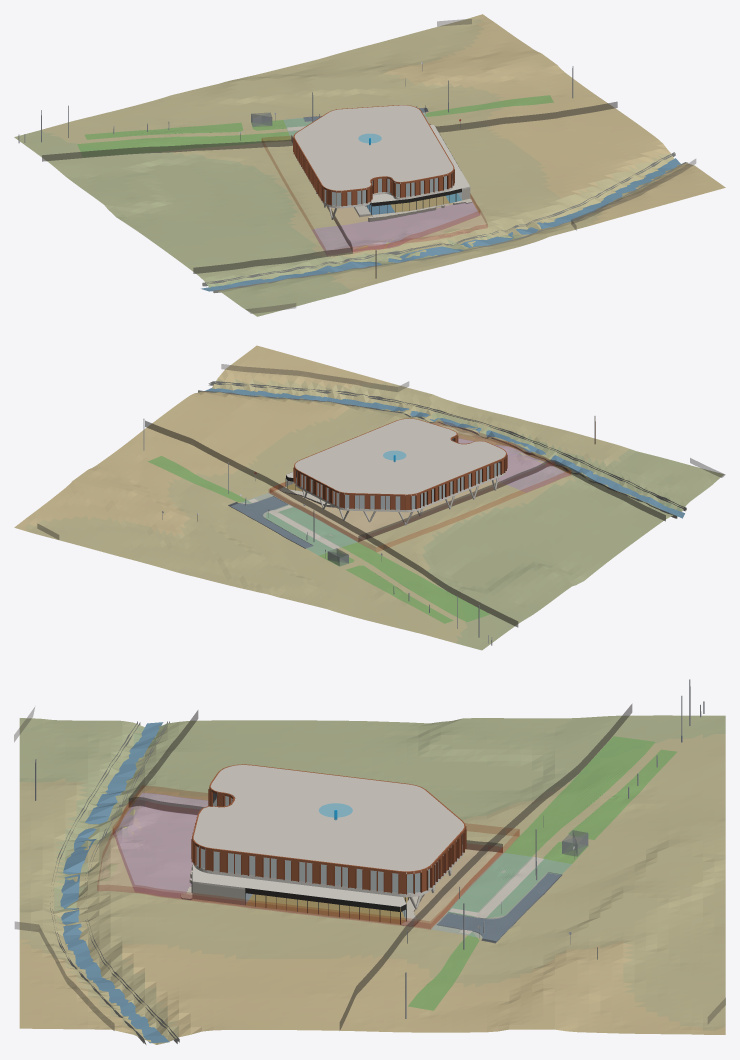
Rendered from maqueta.glb.
3 views of the same model, one above another, from view 1: azimuth 30°, elevation 25°; view 2: azimuth 150°, elevation 25°; view 3: azimuth 270°, elevation 25° (orthographic). The views are drawn at different scales.
Visible parts, largest first — view 1: terreno (×3), cab2 (×5), cercos (×2), cabext, canal (×2), predio (×2), faja, cab1 (×2), eq9a; view 2: terreno (×3), cab2 (×5), cabext, cercos (×2), canal (×2), predio (×2), bnup, eq9a, acceso (×2), faja; view 3: terreno (×3), cab2 (×5), cabext, predio (×2), cab1 (×5), canal (×2), faja, cercos (×2), bnup, eq9a, acceso (×2).
Boxes of the visible parts, bbox=[...] form: terreno (×3): bbox=[14, 14, 725, 316]; cab2 (×5): bbox=[293, 105, 454, 208]; cercos (×2): bbox=[42, 19, 695, 313]; cabext: bbox=[77, 95, 553, 156]; canal (×2): bbox=[201, 152, 687, 293]; predio (×2): bbox=[331, 195, 487, 253]; faja: bbox=[312, 202, 479, 250]; cab1 (×2): bbox=[366, 125, 470, 214]; eq9a: bbox=[262, 135, 479, 251]; terreno (×3): bbox=[14, 345, 724, 650]; cab2 (×5): bbox=[293, 418, 507, 512]; cabext: bbox=[147, 456, 489, 623]; cercos (×2): bbox=[37, 364, 725, 627]; canal (×2): bbox=[198, 381, 686, 518]; predio (×2): bbox=[269, 421, 553, 540]; bnup: bbox=[231, 493, 357, 555]; eq9a: bbox=[270, 433, 570, 551]; acceso (×2): bbox=[229, 496, 339, 549]; faja: bbox=[458, 439, 569, 492]; terreno (×3): bbox=[19, 715, 725, 1044]; cab2 (×5): bbox=[191, 764, 466, 897]; cabext: bbox=[408, 736, 677, 1010]; predio (×2): bbox=[97, 801, 502, 929]; cab1 (×5): bbox=[192, 863, 408, 923]; canal (×2): bbox=[50, 721, 179, 1044]; faja: bbox=[113, 793, 207, 897]; cercos (×2): bbox=[14, 704, 725, 1030]; bnup: bbox=[431, 853, 571, 941]; eq9a: bbox=[113, 785, 519, 928]; acceso (×2): bbox=[437, 857, 561, 942].
Bounding box in the file's own units: 0.7091 × 0.0847 × 0.6253.
